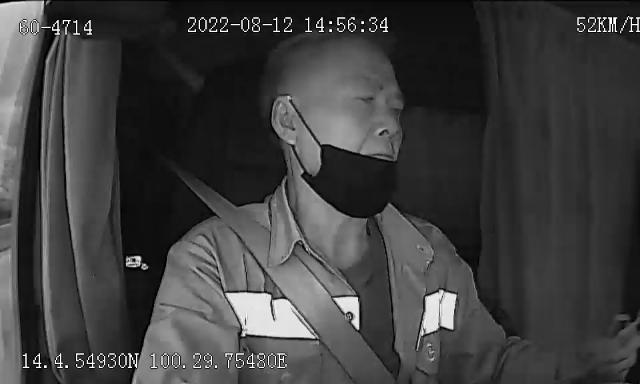Seatbelt: (170, 164, 400, 384)
